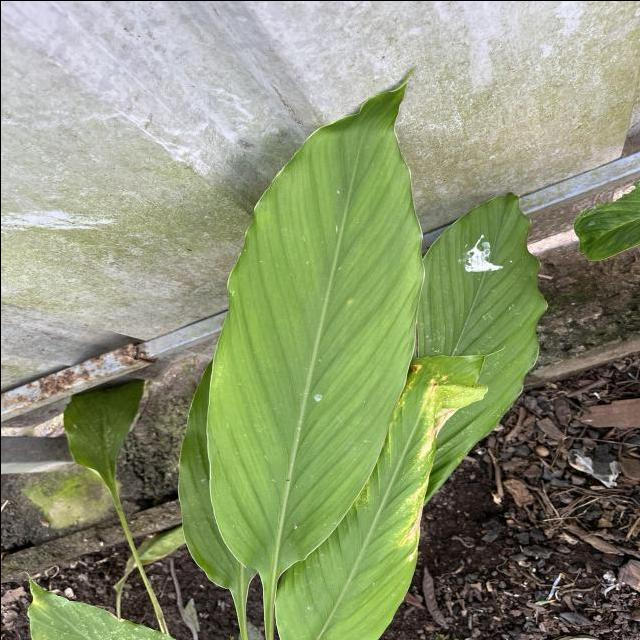Curcuma longa: (200, 55, 428, 581), (421, 188, 552, 513)
